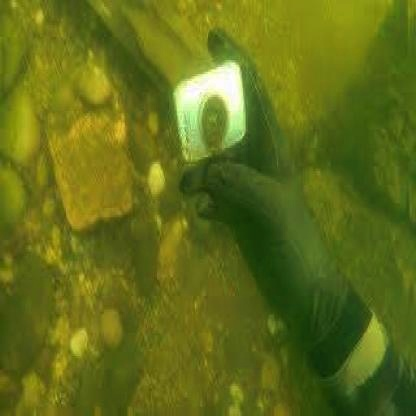electronics: (173, 56, 247, 168)
